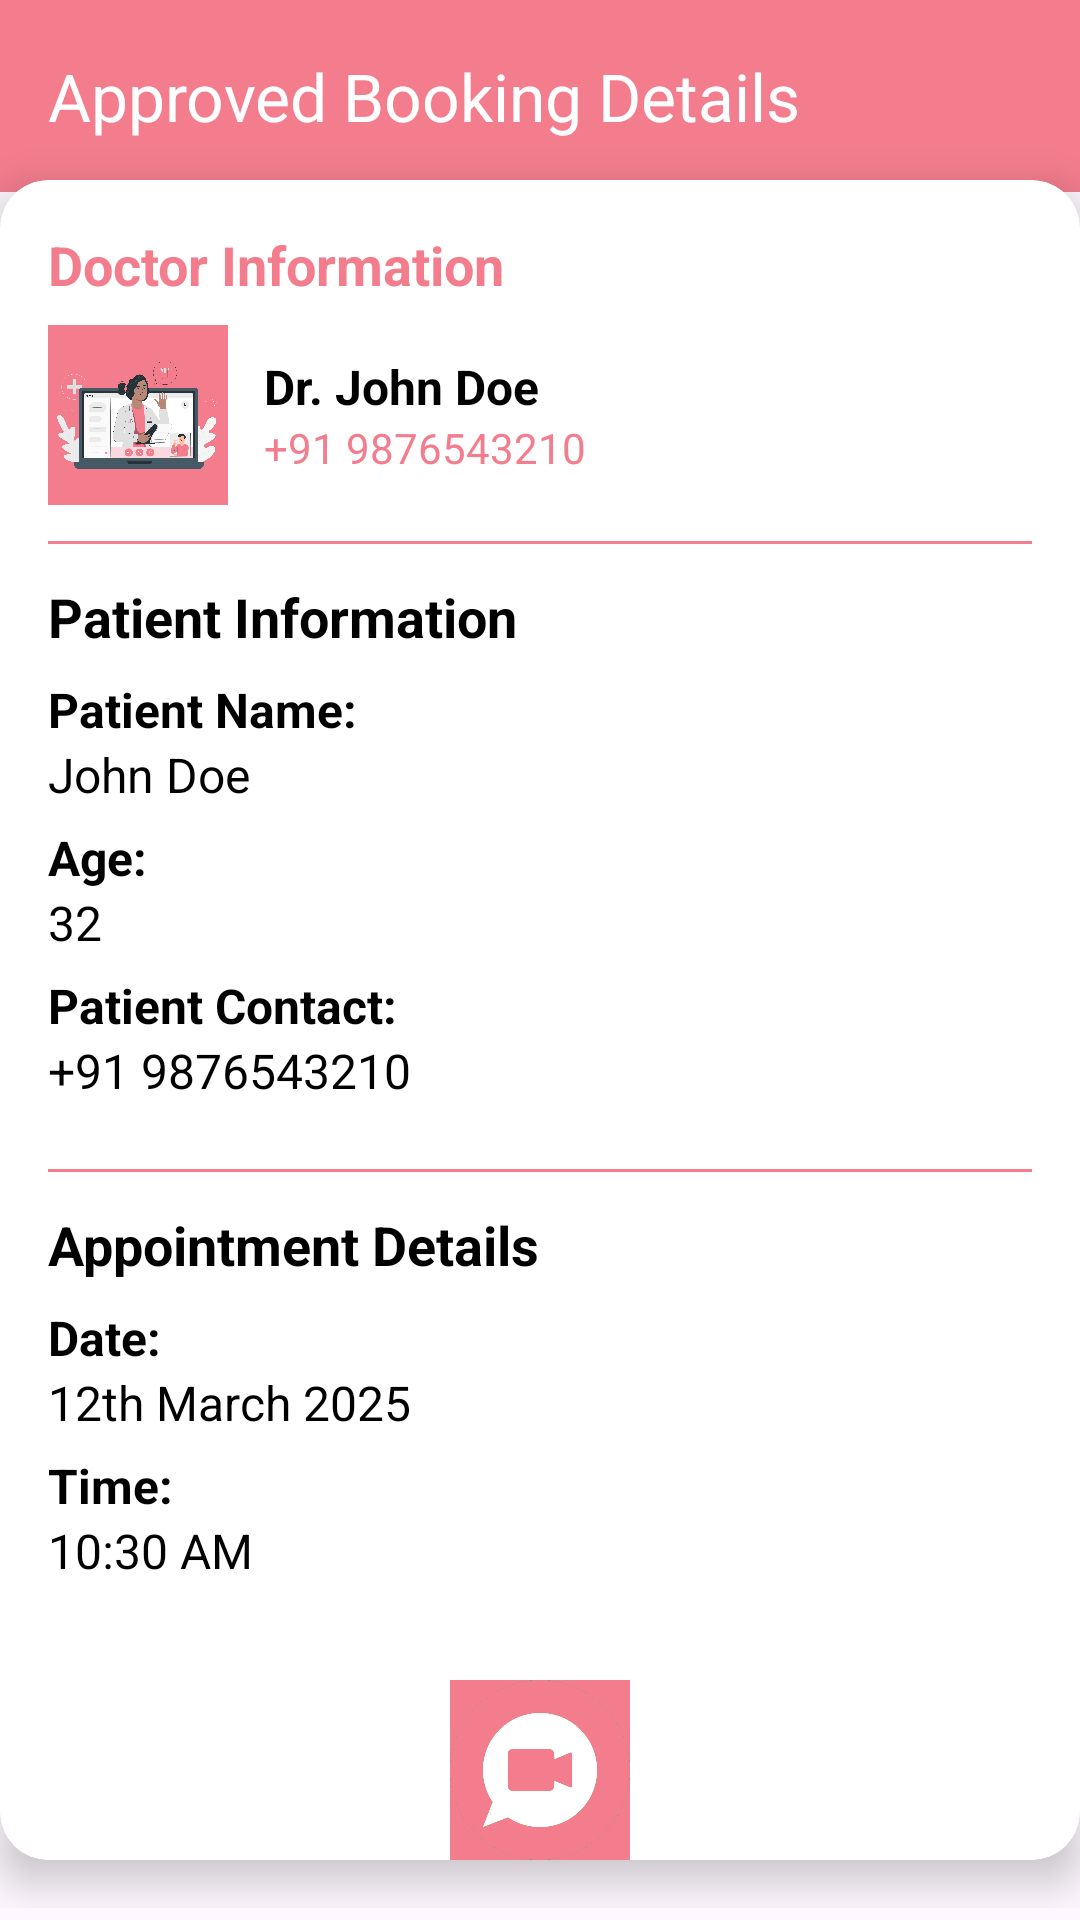

Where to tap for icons on this 1080*1920 app screen, as (x,y):
videocall: (540,1770)
